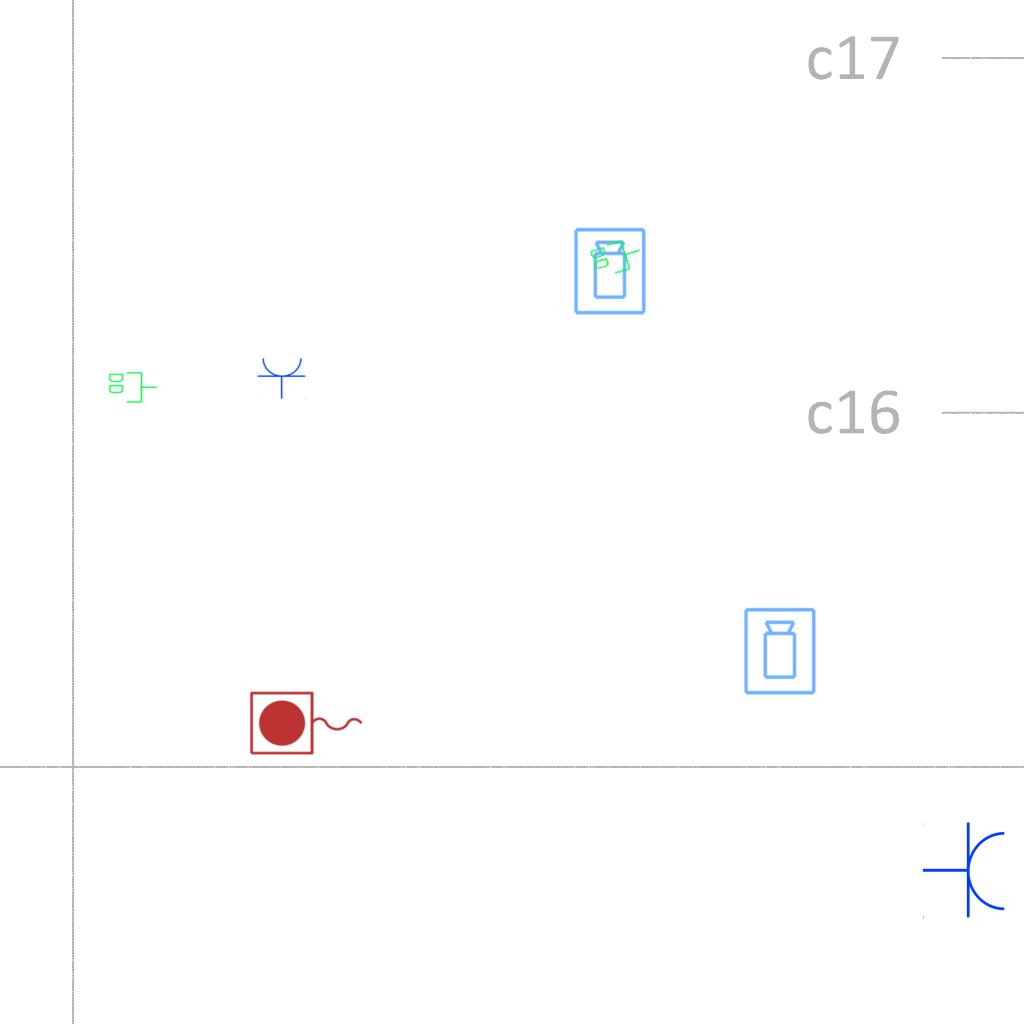Datenanschluss_zweifach: (587, 233, 646, 281), (107, 370, 158, 404)
KFO_Kamera_mit_Festobjektiv: (742, 606, 819, 697), (572, 226, 649, 317)
Schukosteckdose_einfach: (922, 821, 1009, 921), (257, 356, 307, 399)
Zugtaster: (246, 688, 368, 760)
